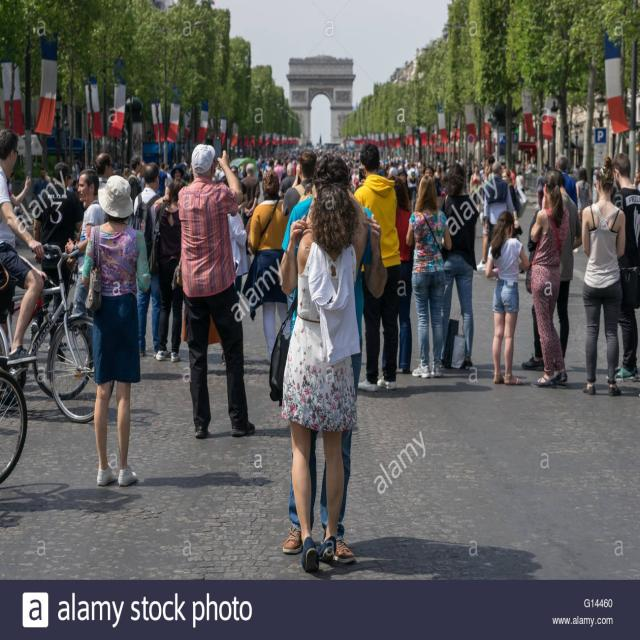body: (265, 150, 390, 570), (281, 181, 372, 576), (175, 142, 258, 442), (248, 141, 538, 223), (79, 172, 153, 489), (518, 169, 582, 370), (352, 141, 402, 393), (0, 126, 47, 367), (580, 154, 626, 398), (30, 161, 85, 363), (523, 168, 571, 390), (62, 166, 110, 379), (404, 172, 452, 380), (602, 150, 640, 384), (438, 162, 480, 370), (249, 168, 292, 366), (484, 208, 531, 386), (380, 175, 417, 377), (153, 175, 187, 362), (132, 162, 162, 358), (482, 160, 520, 271), (281, 150, 320, 222), (476, 154, 496, 272), (239, 162, 261, 257), (227, 210, 249, 302), (83, 152, 114, 210), (501, 168, 524, 242), (555, 154, 578, 213), (126, 154, 142, 229), (574, 166, 593, 223), (210, 157, 242, 187), (31, 166, 50, 210), (118, 161, 145, 191), (468, 164, 484, 214), (162, 158, 192, 184), (278, 161, 296, 199), (155, 161, 168, 199), (536, 169, 548, 210), (514, 170, 526, 194), (631, 170, 640, 191)
